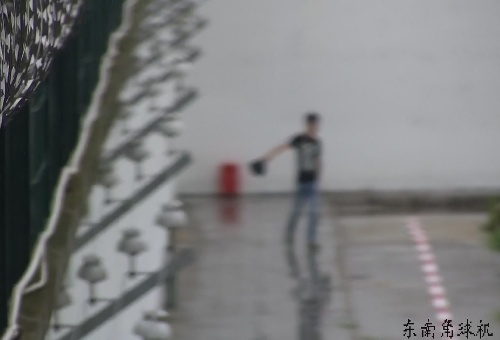person: (250, 102, 330, 250)
